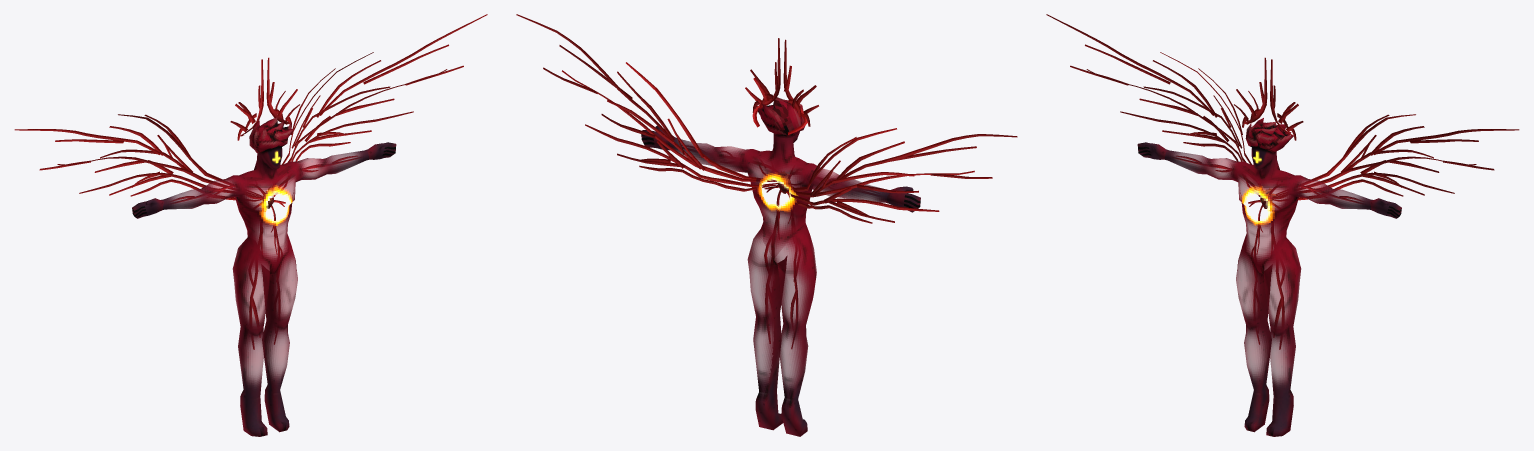
Rendered from LuciferPrime.gltf.
The picture shows the model from 3 angles, left to right: view 1: azimuth 30°, elevation 25°; view 2: azimuth 150°, elevation 25°; view 3: azimuth 330°, elevation 25°; orthographic projection. The views are drawn at different scales.
Parts seen in each view (by area): view 1: LuciferPrime_Body, LuciferPrime_Blood; view 2: LuciferPrime_Body, LuciferPrime_Blood; view 3: LuciferPrime_Body, LuciferPrime_Blood.
Boxes of the visible parts, x1,y1,x2,y2 form: LuciferPrime_Body: (132, 117, 396, 436); LuciferPrime_Blood: (14, 14, 487, 349); LuciferPrime_Body: (641, 97, 920, 436); LuciferPrime_Blood: (516, 14, 1017, 348); LuciferPrime_Body: (1137, 118, 1401, 436); LuciferPrime_Blood: (1046, 14, 1519, 349).
Bounding box in the file's own units: 2.12 × 1.58 × 0.3251.
Materials: 3 (3 with a texture image).
